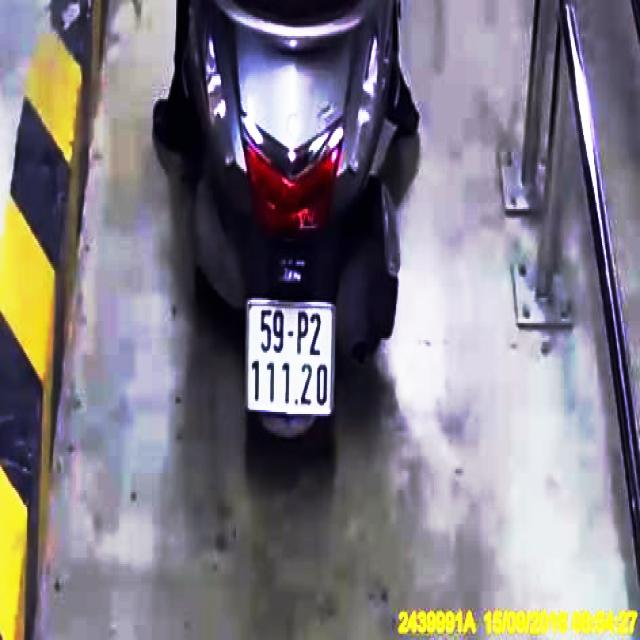license_plate: (246, 299, 338, 415)
